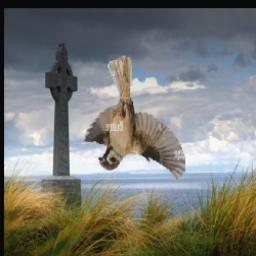Sparrow: (73, 56, 185, 181)
